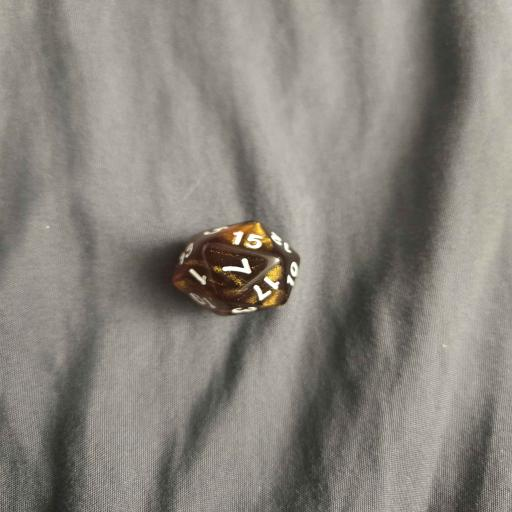twenty sided dice: (171, 220, 300, 315)
